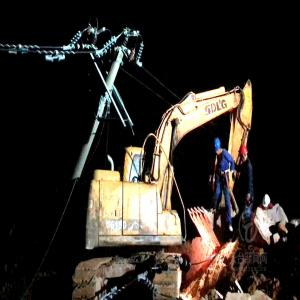blue: (214, 137, 222, 157)
red: (240, 145, 249, 163)
white: (262, 194, 271, 211)
